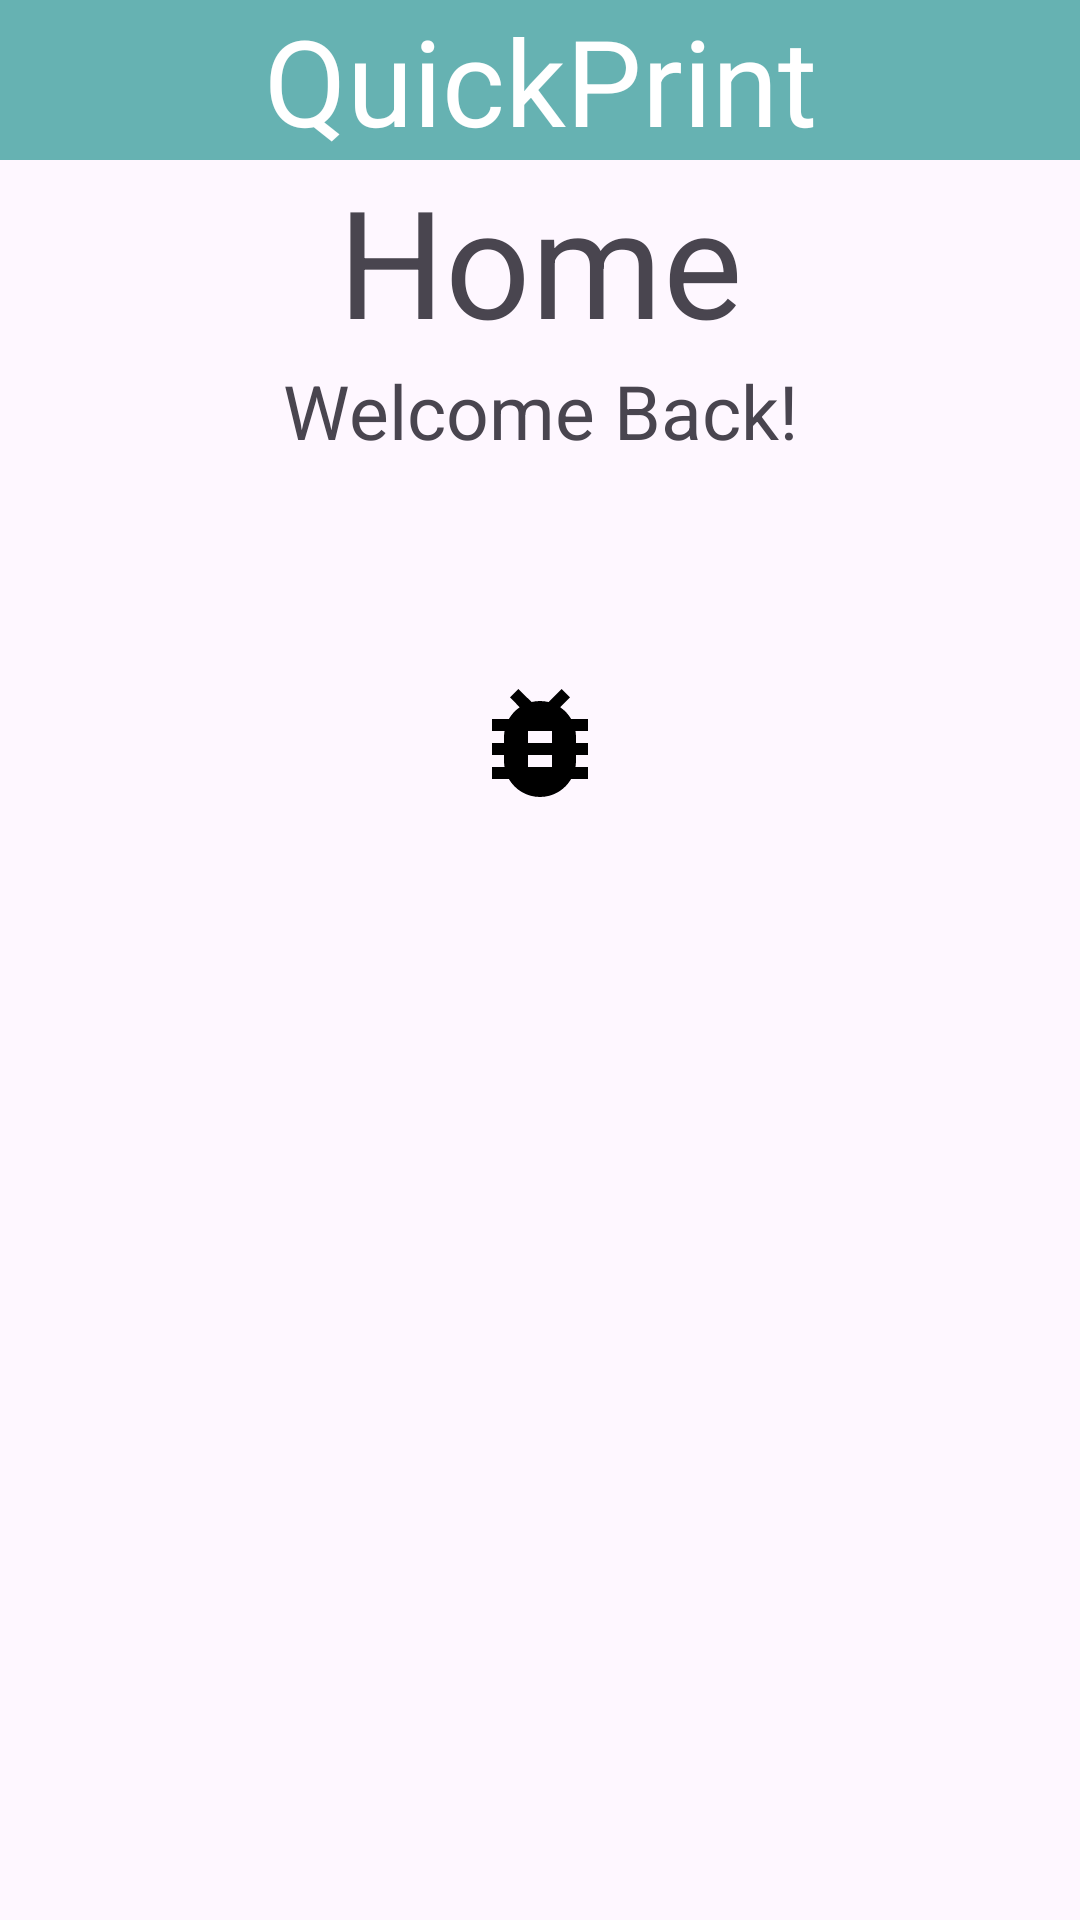

Screen size 1080px x 1920px. Icon name, then its box in pixels as (x1, y1, x2, y2):
bug: (492, 689, 588, 797)
